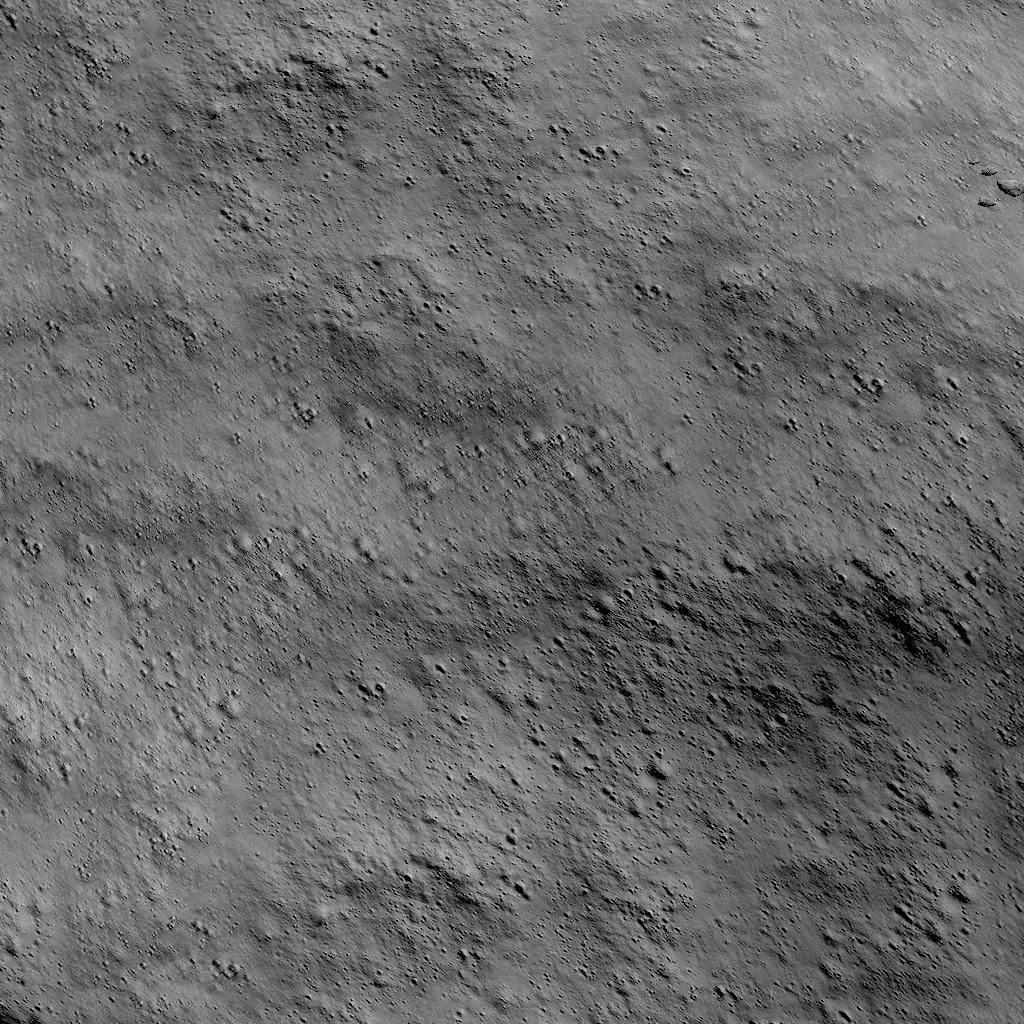Plan surface: (0, 238, 1024, 1024), (0, 0, 955, 223)
